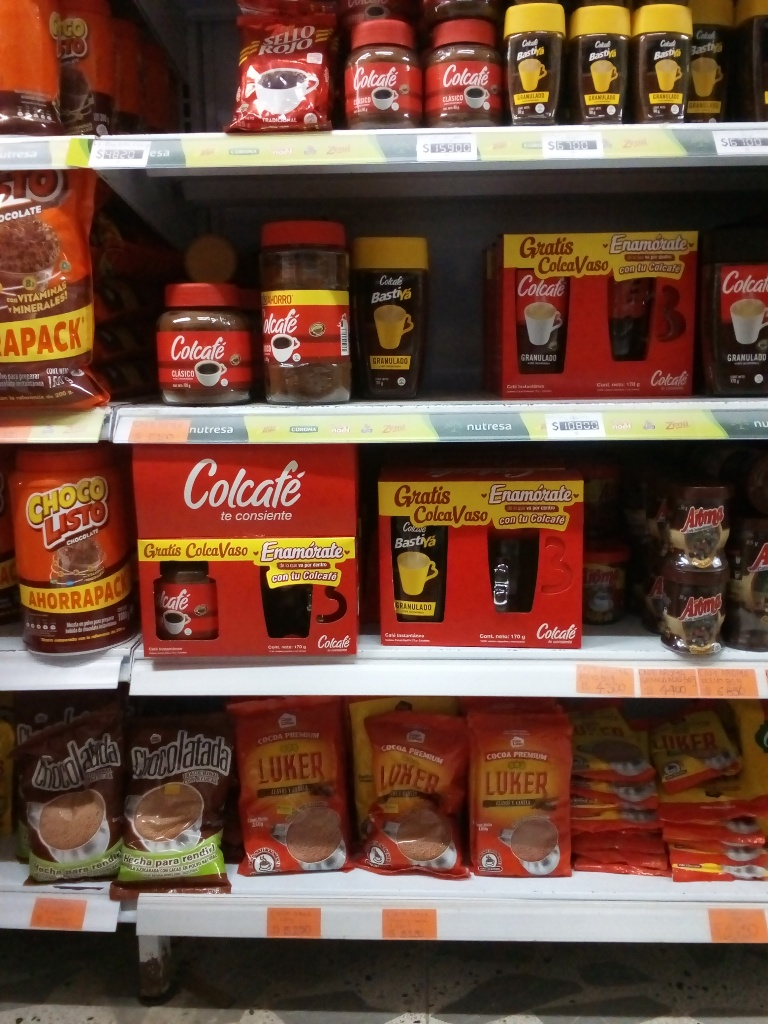COL0170103TRR00100: (4, 452, 130, 664)
